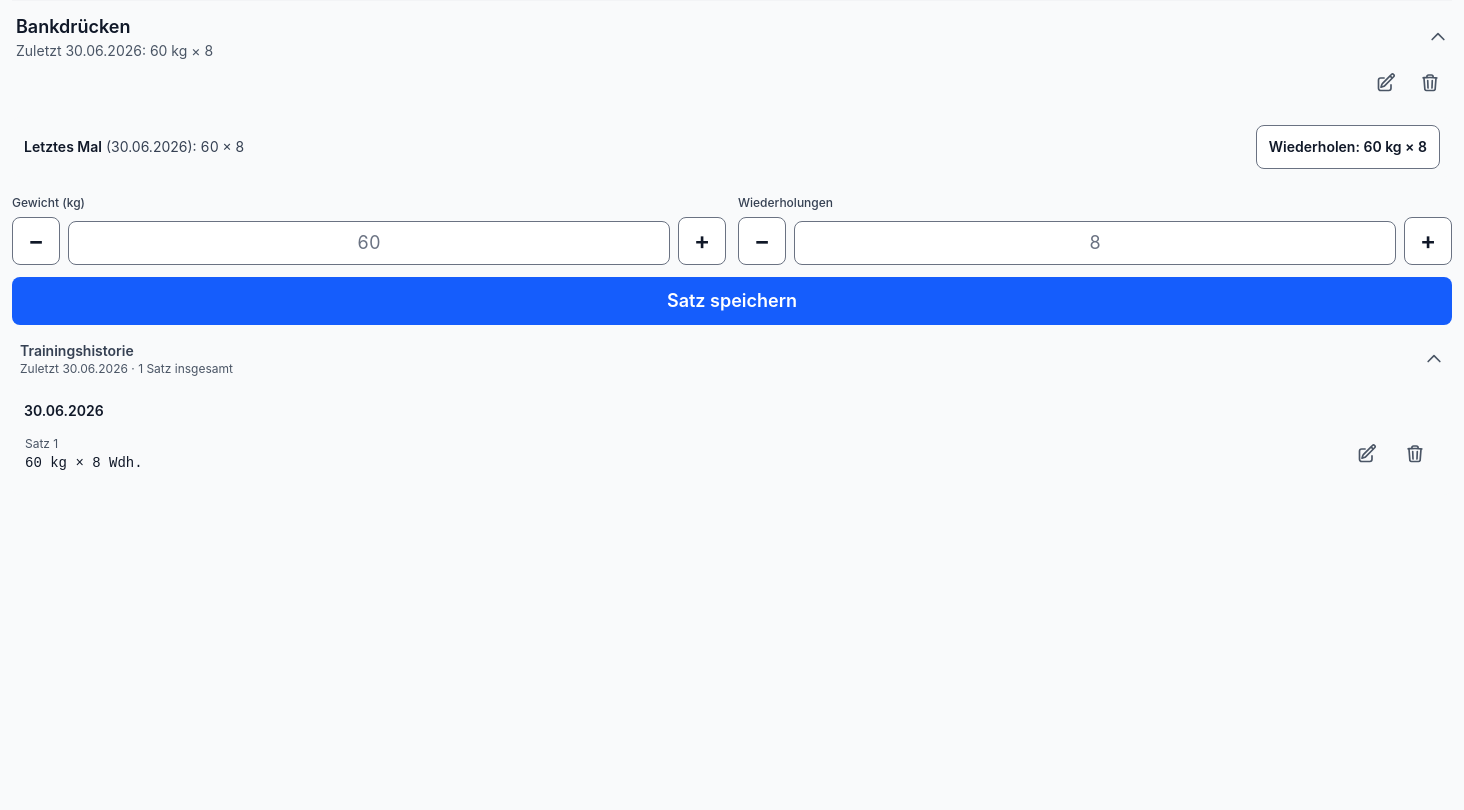
Test case: ExerciseCard › logs a set once and ignores an immediate double tap
The width and height of the screenshot is (1464, 810).
Type "70" into the field with id "weight-exercise-1".
click(369, 243); type("70")  # box top-left (68, 221), bottom-right (670, 265)
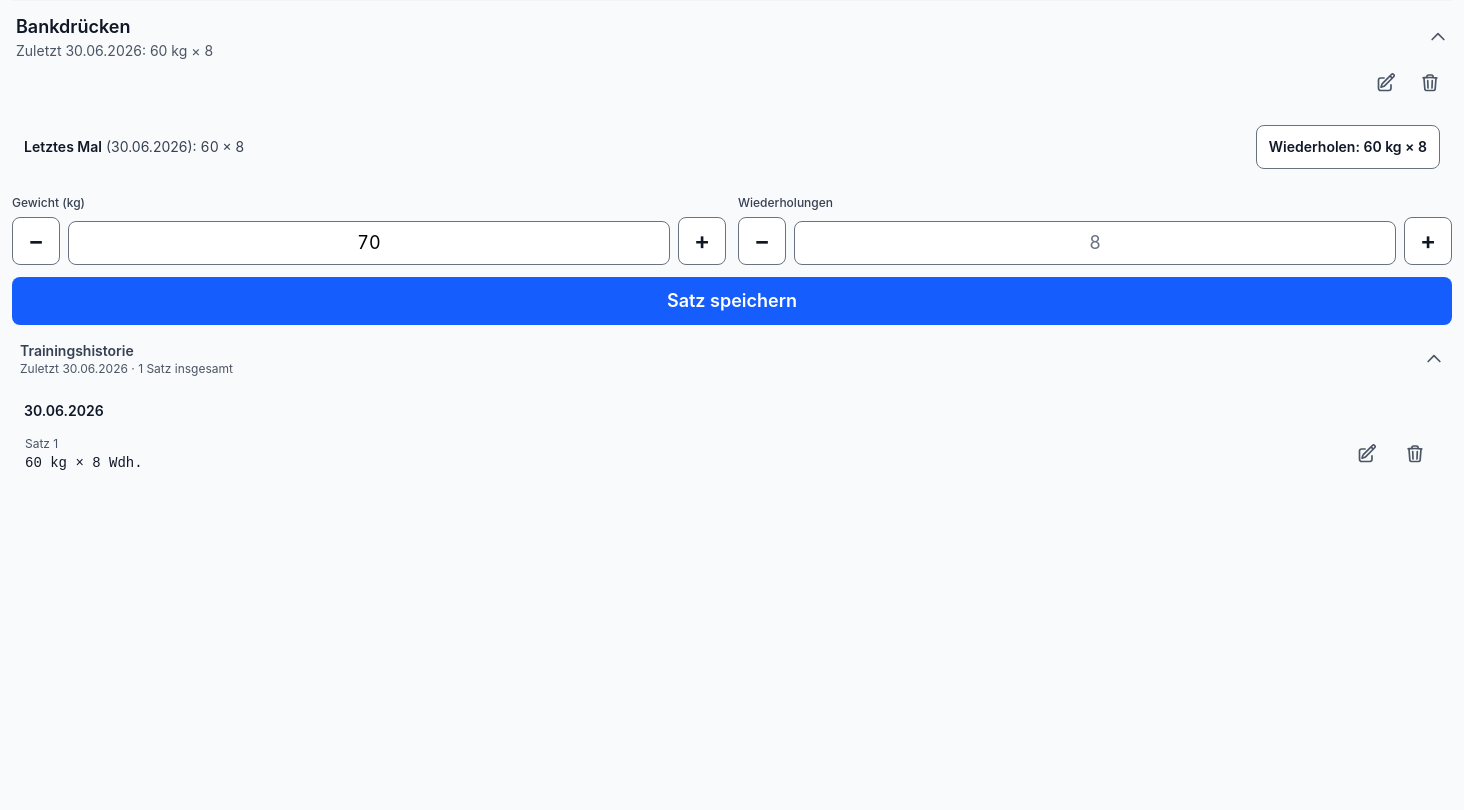
Type "5" into the field with id "reps-exercise-1".
click(1095, 243); type("5")  # box top-left (794, 221), bottom-right (1396, 265)
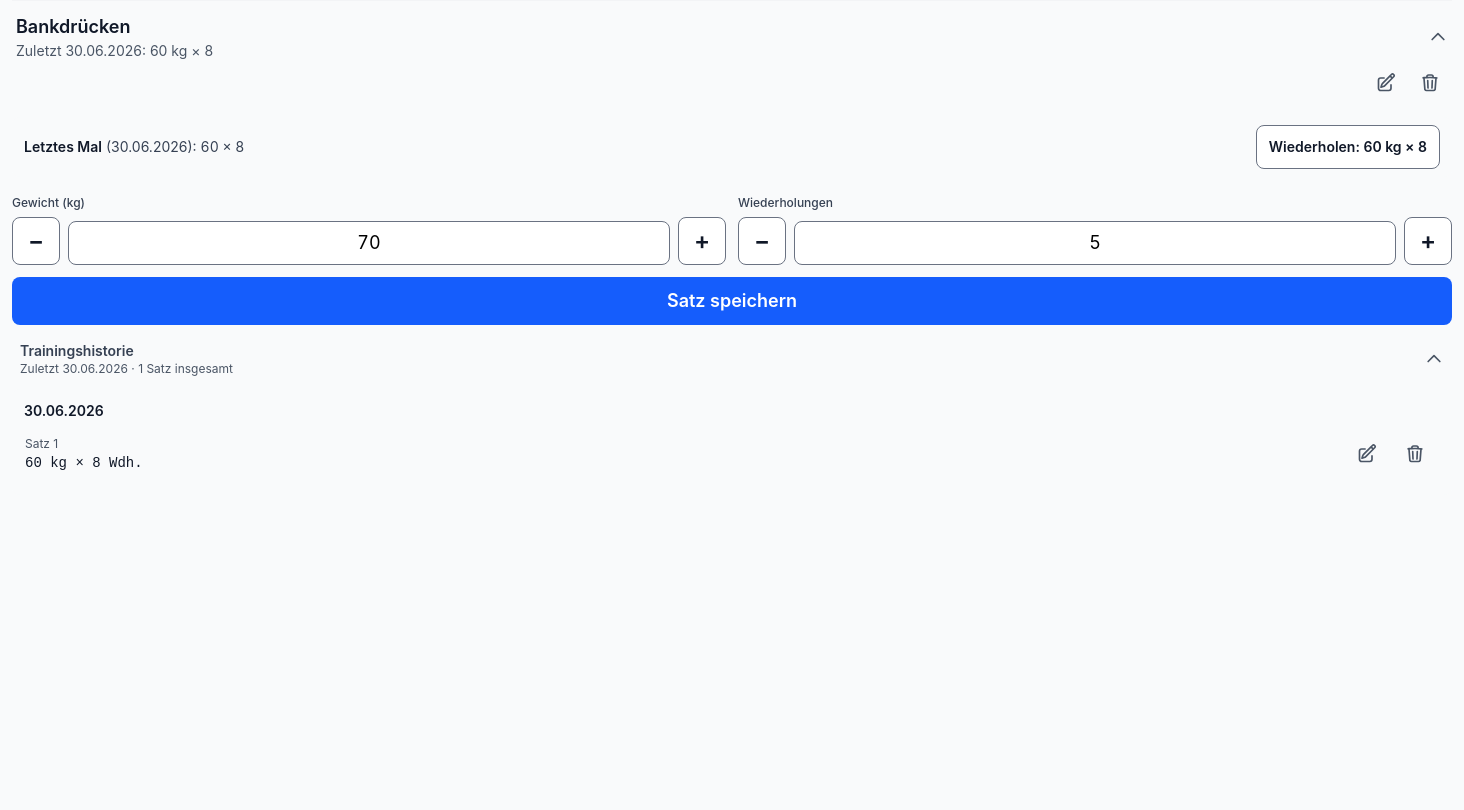
Submit the form, box top-left (12, 189), bottom-right (1452, 325)
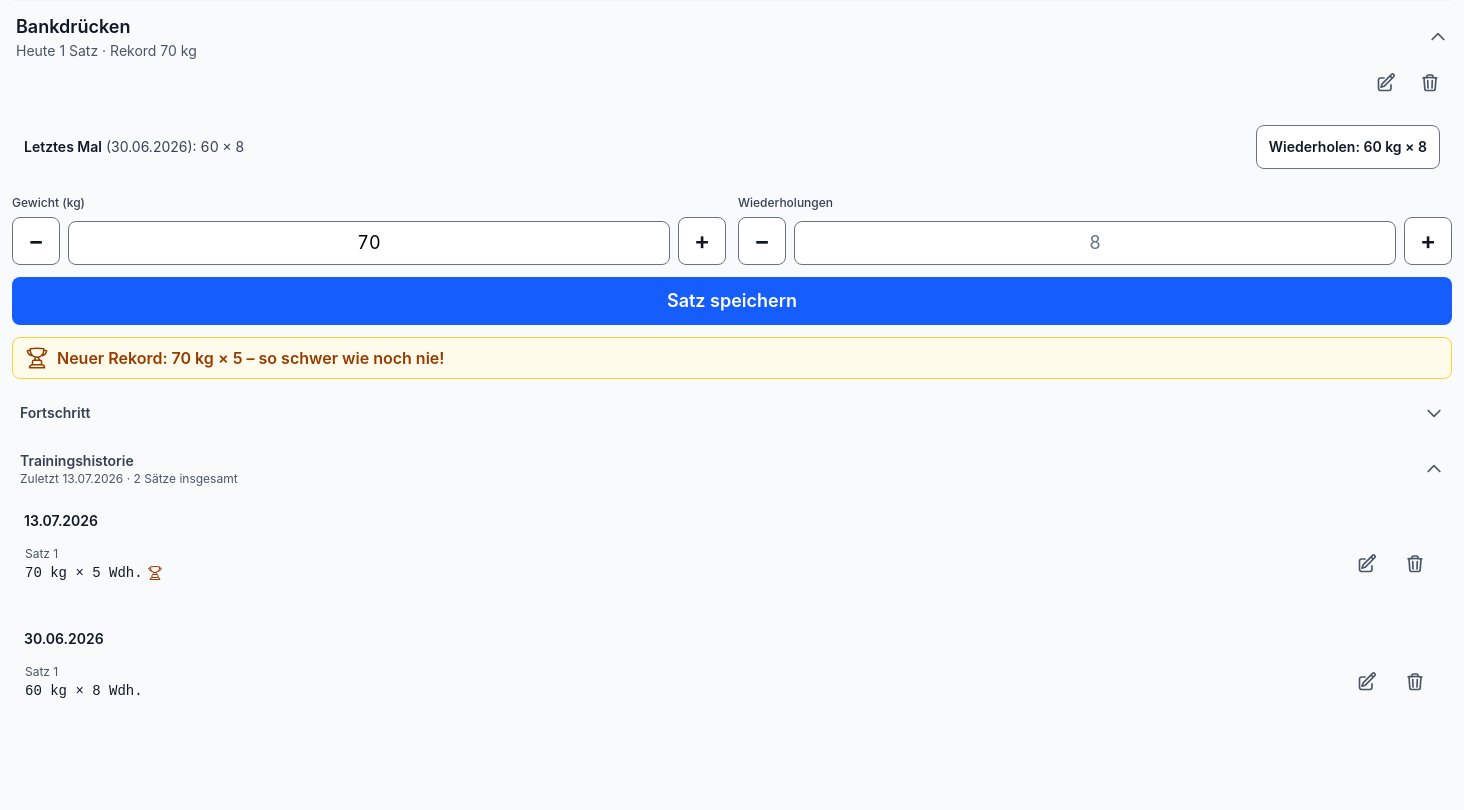
Submit the form, box top-left (12, 189), bottom-right (1452, 379)
Submit the form, box top-left (12, 189), bottom-right (1452, 379)
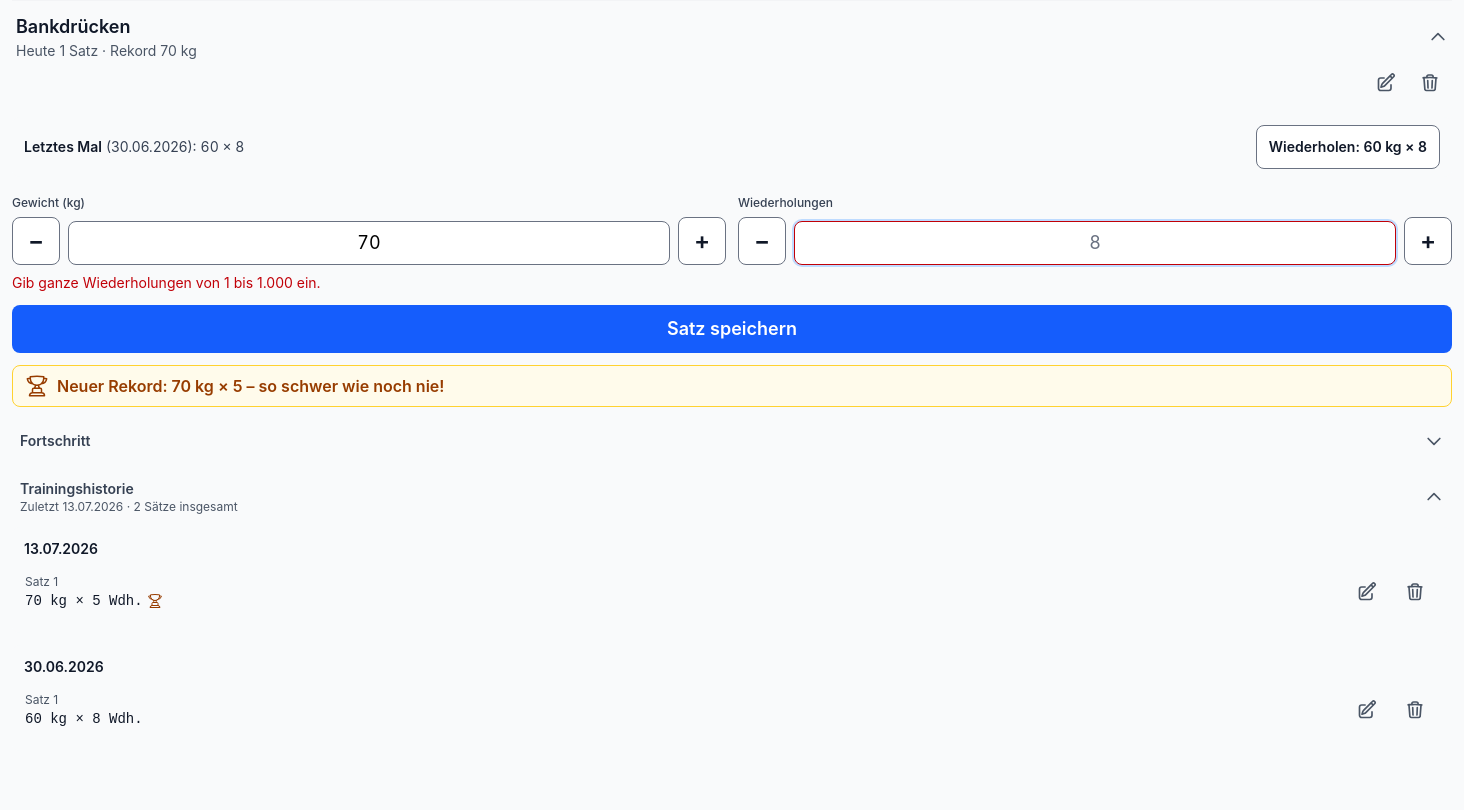
Now the text "Gib ganze Wiederholungen von 1 bis 1.000 ein." is shown, box top-left (12, 274), bottom-right (321, 291)
